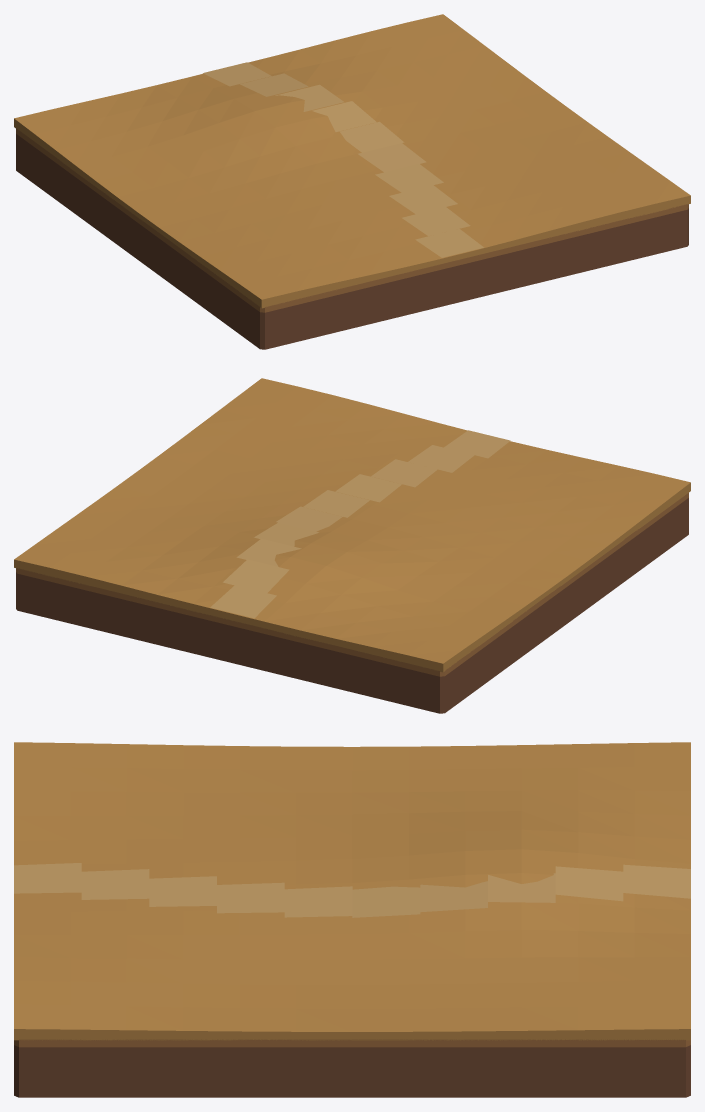
The picture shows the model from 3 angles, top to bottom: view 1: azimuth 30°, elevation 25°; view 2: azimuth 150°, elevation 25°; view 3: azimuth 270°, elevation 25°; orthographic projection. The views are drawn at different scales.
Visible parts, largest first — view 1: B06_秋土高台; view 2: B06_秋土高台; view 3: B06_秋土高台.
Part boxes in pixels (x1,y1,x2,y2): B06_秋土高台: [14, 14, 690, 349]; B06_秋土高台: [14, 378, 690, 713]; B06_秋土高台: [14, 742, 690, 1097].
Bounding box in the file's own units: 8 × 1.07 × 8.
